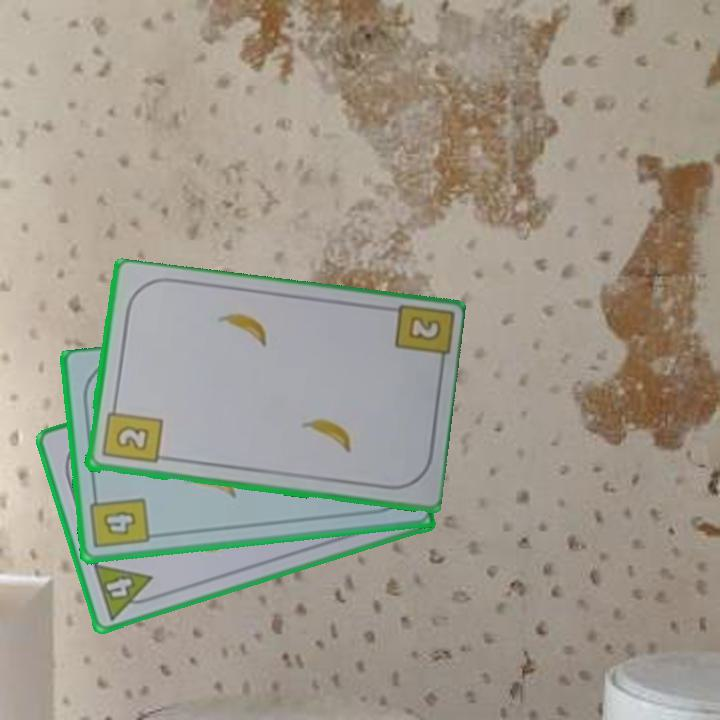2b: (98, 400, 164, 467), (404, 313, 444, 344)
4b: (87, 489, 152, 552)
4p: (89, 559, 161, 623)
